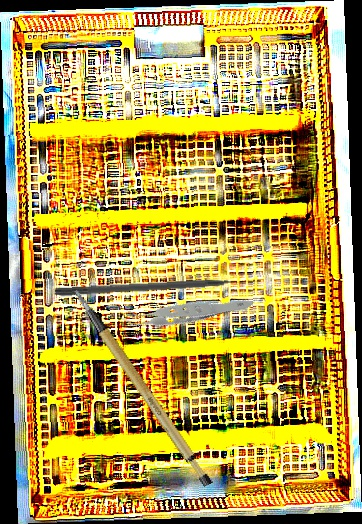Pusher: (54, 276, 261, 299)
Scalpel Handle: (73, 271, 216, 502)
Tissue Forceps: (113, 252, 255, 367)
